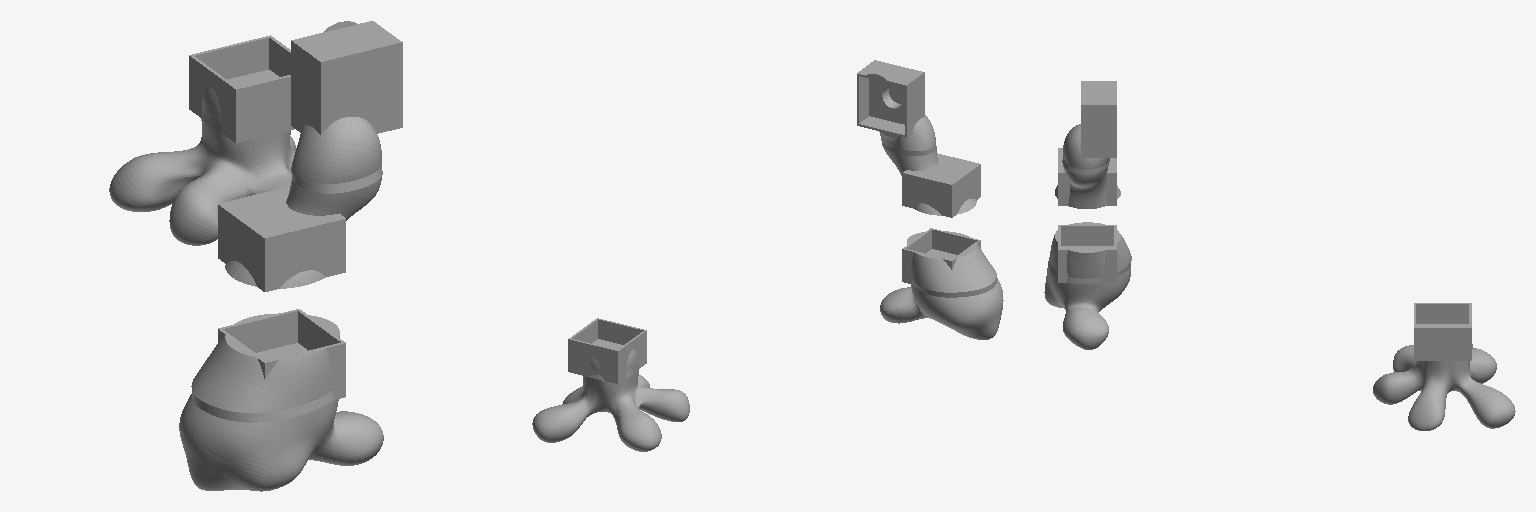
robot.urdf — FrogBot5_top-FrogBot5-y-1_bottom-FrogBot5-y-1:
<?xml version="1.0" ?>
<robot name="FrogBot5_top-FrogBot5-y-1_bottom-FrogBot5-y-1">

<material name="pla_5_percent_infill">
  <color rgba="0.700 0.700 0.700 1.000"/>
</material>

<link name="base_link">
  <inertial>
    <origin xyz="0 0 0" rpy="0 0 0"/>
    <mass value="1.4805118043364613"/>
    <inertia ixx="0.00519778244400068" iyy="0.011185972187213383" izz="0.012581059264896973" ixy="-0.0002102027550041139" iyz="-1.09064860282594e-05" ixz="-0.0008439426245005397"/>
  </inertial>
  <visual>
    <origin xyz="0 0 0" rpy="0 0 0"/>
    <geometry>
      <mesh filename="simple_meshes/base_link.stl" scale="0.001 0.001 0.001"/>
    </geometry>
    <material name="pla_5_percent_infill"/>
  </visual>
  <collision>
    <origin xyz="0 0 0" rpy="0 0 0"/>
    <geometry>
      <mesh filename="simple_meshes/base_link.stl" scale="0.001 0.001 0.001"/>
    </geometry>
  </collision>
</link>

<link name="body_1_0_1">
  <inertial>
    <origin xyz="-0.05492 -0.106321 -0.011198" rpy="0 0 0"/>
    <mass value="0.030173710329231874"/>
    <inertia ixx="2.1151289092102106e-05" iyy="2.3891212404817576e-05" izz="1.1139964591219687e-05" ixy="-8.243479070280742e-08" iyz="-1.2629091710427749e-06" ixz="-7.893532797612751e-07"/>
  </inertial>
  <visual>
    <origin xyz="-0.05492 -0.106321 -0.011198" rpy="0 0 0"/>
    <geometry>
      <mesh filename="simple_meshes/body_1_0_1.stl" scale="0.001 0.001 0.001"/>
    </geometry>
    <material name="pla_5_percent_infill"/>
  </visual>
  <collision>
    <origin xyz="-0.05492 -0.106321 -0.011198" rpy="0 0 0"/>
    <geometry>
      <mesh filename="simple_meshes/body_1_0_1.stl" scale="0.001 0.001 0.001"/>
    </geometry>
  </collision>
</link>

<link name="body_1_1_1">
  <inertial>
    <origin xyz="0.058377 -0.106321 -0.025493" rpy="0 0 0"/>
    <mass value="0.04959591978118273"/>
    <inertia ixx="4.2126143959894755e-05" iyy="6.312488080287146e-05" izz="3.558844236590175e-05" ixy="-1.6763401172245748e-06" iyz="-6.683540816491339e-07" ixz="-2.0590648971645016e-05"/>
  </inertial>
  <visual>
    <origin xyz="0.058377 -0.106321 -0.025493" rpy="0 0 0"/>
    <geometry>
      <mesh filename="simple_meshes/body_1_1_1.stl" scale="0.001 0.001 0.001"/>
    </geometry>
    <material name="pla_5_percent_infill"/>
  </visual>
  <collision>
    <origin xyz="0.058377 -0.106321 -0.025493" rpy="0 0 0"/>
    <geometry>
      <mesh filename="simple_meshes/body_1_1_1.stl" scale="0.001 0.001 0.001"/>
    </geometry>
  </collision>
</link>

<link name="body_1_2_1">
  <inertial>
    <origin xyz="-0.053934 0.106321 -0.032331" rpy="0 0 0"/>
    <mass value="0.04269392099081466"/>
    <inertia ixx="4.093074680828839e-05" iyy="4.614185521955802e-05" izz="1.5859195045614437e-05" ixy="6.028893648359459e-08" iyz="1.772225068526732e-08" ixz="5.9296961033217955e-06"/>
  </inertial>
  <visual>
    <origin xyz="-0.053934 0.106321 -0.032331" rpy="0 0 0"/>
    <geometry>
      <mesh filename="simple_meshes/body_1_2_1.stl" scale="0.001 0.001 0.001"/>
    </geometry>
    <material name="pla_5_percent_infill"/>
  </visual>
  <collision>
    <origin xyz="-0.053934 0.106321 -0.032331" rpy="0 0 0"/>
    <geometry>
      <mesh filename="simple_meshes/body_1_2_1.stl" scale="0.001 0.001 0.001"/>
    </geometry>
  </collision>
</link>

<link name="body_1_3_1">
  <inertial>
    <origin xyz="0.057483 0.106321 -0.032919" rpy="0 0 0"/>
    <mass value="0.04788517718802873"/>
    <inertia ixx="4.447962696015745e-05" iyy="6.078522117296584e-05" izz="2.855595916184759e-05" ixy="-6.817160978697927e-07" iyz="-1.6790953519319051e-06" ixz="-1.826446817986444e-05"/>
  </inertial>
  <visual>
    <origin xyz="0.057483 0.106321 -0.032919" rpy="0 0 0"/>
    <geometry>
      <mesh filename="simple_meshes/body_1_3_1.stl" scale="0.001 0.001 0.001"/>
    </geometry>
    <material name="pla_5_percent_infill"/>
  </visual>
  <collision>
    <origin xyz="0.057483 0.106321 -0.032919" rpy="0 0 0"/>
    <geometry>
      <mesh filename="simple_meshes/body_1_3_1.stl" scale="0.001 0.001 0.001"/>
    </geometry>
  </collision>
</link>

<link name="body_2_0_1">
  <inertial>
    <origin xyz="-0.051784 -0.143449 0.075454" rpy="0 0 0"/>
    <mass value="0.07435618188436759"/>
    <inertia ixx="6.975634907167069e-05" iyy="7.70802745863569e-05" izz="9.259758076558041e-05" ixy="-4.545005589764767e-06" iyz="3.6843505059496774e-06" ixz="-7.682881899502602e-07"/>
  </inertial>
  <visual>
    <origin xyz="-0.051784 -0.143449 0.075454" rpy="0 0 0"/>
    <geometry>
      <mesh filename="simple_meshes/body_2_0_1.stl" scale="0.001 0.001 0.001"/>
    </geometry>
    <material name="pla_5_percent_infill"/>
  </visual>
  <collision>
    <origin xyz="-0.051784 -0.143449 0.075454" rpy="0 0 0"/>
    <geometry>
      <mesh filename="simple_meshes/body_2_0_1.stl" scale="0.001 0.001 0.001"/>
    </geometry>
  </collision>
</link>

<link name="body_2_1_1">
  <inertial>
    <origin xyz="0.108798 -0.147527 0.075454" rpy="0 0 0"/>
    <mass value="0.08193441824569248"/>
    <inertia ixx="4.299167477942031e-05" iyy="6.209126186463307e-05" izz="6.552960935158302e-05" ixy="-1.7933545118557857e-06" iyz="2.5584454424920806e-07" ixz="-6.609097183574858e-07"/>
  </inertial>
  <visual>
    <origin xyz="0.108798 -0.147527 0.075454" rpy="0 0 0"/>
    <geometry>
      <mesh filename="simple_meshes/body_2_1_1.stl" scale="0.001 0.001 0.001"/>
    </geometry>
    <material name="pla_5_percent_infill"/>
  </visual>
  <collision>
    <origin xyz="0.108798 -0.147527 0.075454" rpy="0 0 0"/>
    <geometry>
      <mesh filename="simple_meshes/body_2_1_1.stl" scale="0.001 0.001 0.001"/>
    </geometry>
  </collision>
</link>

<link name="body_2_2_1">
  <inertial>
    <origin xyz="-0.065031 0.147225 0.075454" rpy="0 0 0"/>
    <mass value="0.07330124746486667"/>
    <inertia ixx="6.873313318246643e-05" iyy="6.698655751762234e-05" izz="8.498154268068558e-05" ixy="6.0309533392252385e-06" iyz="-2.034515268293678e-06" ixz="-3.0156798077088072e-06"/>
  </inertial>
  <visual>
    <origin xyz="-0.065031 0.147225 0.075454" rpy="0 0 0"/>
    <geometry>
      <mesh filename="simple_meshes/body_2_2_1.stl" scale="0.001 0.001 0.001"/>
    </geometry>
    <material name="pla_5_percent_infill"/>
  </visual>
  <collision>
    <origin xyz="-0.065031 0.147225 0.075454" rpy="0 0 0"/>
    <geometry>
      <mesh filename="simple_meshes/body_2_2_1.stl" scale="0.001 0.001 0.001"/>
    </geometry>
  </collision>
</link>

<link name="body_2_3_1">
  <inertial>
    <origin xyz="0.101339 0.151086 0.075454" rpy="0 0 0"/>
    <mass value="0.09394065176853235"/>
    <inertia ixx="5.545765945787987e-05" iyy="8.539341208935961e-05" izz="7.992714861295488e-05" ixy="7.163962595421042e-07" iyz="-2.796341816162836e-06" ixz="4.887362561150667e-06"/>
  </inertial>
  <visual>
    <origin xyz="0.101339 0.151086 0.075454" rpy="0 0 0"/>
    <geometry>
      <mesh filename="simple_meshes/body_2_3_1.stl" scale="0.001 0.001 0.001"/>
    </geometry>
    <material name="pla_5_percent_infill"/>
  </visual>
  <collision>
    <origin xyz="0.101339 0.151086 0.075454" rpy="0 0 0"/>
    <geometry>
      <mesh filename="simple_meshes/body_2_3_1.stl" scale="0.001 0.001 0.001"/>
    </geometry>
  </collision>
</link>

<joint name="joint_1_0" type="revolute">
  <origin xyz="0.05492 0.106321 0.011198" rpy="0 0 0"/>
  <parent link="base_link"/>
  <child link="body_1_0_1"/>
  <axis xyz="0.0 0.0 -1.0"/>
  <limit upper="1.2" lower="-1.2" effort="3.8" velocity="5.4"/>
</joint>
<transmission name="joint_1_0_tran">
  <type>transmission_interface/SimpleTransmission</type>
  <joint name="joint_1_0">
    <hardwareInterface>PositionJointInterface</hardwareInterface>
  </joint>
  <actuator name="joint_1_0_actr">
    <hardwareInterface>PositionJointInterface</hardwareInterface>
    <mechanicalReduction>1</mechanicalReduction>
  </actuator>
</transmission>

<joint name="joint_1_1" type="revolute">
  <origin xyz="-0.058377 0.106321 0.025493" rpy="0 0 0"/>
  <parent link="base_link"/>
  <child link="body_1_1_1"/>
  <axis xyz="0.0 0.0 -1.0"/>
  <limit upper="1.2" lower="-1.2" effort="3.8" velocity="5.4"/>
</joint>
<transmission name="joint_1_1_tran">
  <type>transmission_interface/SimpleTransmission</type>
  <joint name="joint_1_1">
    <hardwareInterface>PositionJointInterface</hardwareInterface>
  </joint>
  <actuator name="joint_1_1_actr">
    <hardwareInterface>PositionJointInterface</hardwareInterface>
    <mechanicalReduction>1</mechanicalReduction>
  </actuator>
</transmission>

<joint name="joint_1_2" type="revolute">
  <origin xyz="0.053934 -0.106321 0.032331" rpy="0 0 0"/>
  <parent link="base_link"/>
  <child link="body_1_2_1"/>
  <axis xyz="0.0 0.0 -1.0"/>
  <limit upper="1.2" lower="-1.2" effort="3.8" velocity="5.4"/>
</joint>
<transmission name="joint_1_2_tran">
  <type>transmission_interface/SimpleTransmission</type>
  <joint name="joint_1_2">
    <hardwareInterface>PositionJointInterface</hardwareInterface>
  </joint>
  <actuator name="joint_1_2_actr">
    <hardwareInterface>PositionJointInterface</hardwareInterface>
    <mechanicalReduction>1</mechanicalReduction>
  </actuator>
</transmission>

<joint name="joint_1_3" type="revolute">
  <origin xyz="-0.057483 -0.106321 0.032919" rpy="0 0 0"/>
  <parent link="base_link"/>
  <child link="body_1_3_1"/>
  <axis xyz="0.0 0.0 -1.0"/>
  <limit upper="1.2" lower="-1.2" effort="3.8" velocity="5.4"/>
</joint>
<transmission name="joint_1_3_tran">
  <type>transmission_interface/SimpleTransmission</type>
  <joint name="joint_1_3">
    <hardwareInterface>PositionJointInterface</hardwareInterface>
  </joint>
  <actuator name="joint_1_3_actr">
    <hardwareInterface>PositionJointInterface</hardwareInterface>
    <mechanicalReduction>1</mechanicalReduction>
  </actuator>
</transmission>

<joint name="joint_2_0" type="revolute">
  <origin xyz="-0.003136 0.037128 -0.086652" rpy="0 0 0"/>
  <parent link="body_1_0_1"/>
  <child link="body_2_0_1"/>
  <axis xyz="0.0 1.0 0.0"/>
  <limit upper="1.2" lower="-1.2" effort="3.8" velocity="5.4"/>
</joint>
<transmission name="joint_2_0_tran">
  <type>transmission_interface/SimpleTransmission</type>
  <joint name="joint_2_0">
    <hardwareInterface>PositionJointInterface</hardwareInterface>
  </joint>
  <actuator name="joint_2_0_actr">
    <hardwareInterface>PositionJointInterface</hardwareInterface>
    <mechanicalReduction>1</mechanicalReduction>
  </actuator>
</transmission>

<joint name="joint_2_1" type="revolute">
  <origin xyz="-0.050421 0.041206 -0.100947" rpy="0 0 0"/>
  <parent link="body_1_1_1"/>
  <child link="body_2_1_1"/>
  <axis xyz="0.0 1.0 0.0"/>
  <limit upper="1.2" lower="-1.2" effort="3.8" velocity="5.4"/>
</joint>
<transmission name="joint_2_1_tran">
  <type>transmission_interface/SimpleTransmission</type>
  <joint name="joint_2_1">
    <hardwareInterface>PositionJointInterface</hardwareInterface>
  </joint>
  <actuator name="joint_2_1_actr">
    <hardwareInterface>PositionJointInterface</hardwareInterface>
    <mechanicalReduction>1</mechanicalReduction>
  </actuator>
</transmission>

<joint name="joint_2_2" type="revolute">
  <origin xyz="0.011097 -0.040904 -0.107785" rpy="0 0 0"/>
  <parent link="body_1_2_1"/>
  <child link="body_2_2_1"/>
  <axis xyz="0.0 1.0 0.0"/>
  <limit upper="1.2" lower="-1.2" effort="3.8" velocity="5.4"/>
</joint>
<transmission name="joint_2_2_tran">
  <type>transmission_interface/SimpleTransmission</type>
  <joint name="joint_2_2">
    <hardwareInterface>PositionJointInterface</hardwareInterface>
  </joint>
  <actuator name="joint_2_2_actr">
    <hardwareInterface>PositionJointInterface</hardwareInterface>
    <mechanicalReduction>1</mechanicalReduction>
  </actuator>
</transmission>

<joint name="joint_2_3" type="revolute">
  <origin xyz="-0.043856 -0.044765 -0.108373" rpy="0 0 0"/>
  <parent link="body_1_3_1"/>
  <child link="body_2_3_1"/>
  <axis xyz="0.0 1.0 0.0"/>
  <limit upper="1.2" lower="-1.2" effort="3.8" velocity="5.4"/>
</joint>
<transmission name="joint_2_3_tran">
  <type>transmission_interface/SimpleTransmission</type>
  <joint name="joint_2_3">
    <hardwareInterface>PositionJointInterface</hardwareInterface>
  </joint>
  <actuator name="joint_2_3_actr">
    <hardwareInterface>PositionJointInterface</hardwareInterface>
    <mechanicalReduction>1</mechanicalReduction>
  </actuator>
</transmission>

</robot>

--- What the picture shows (computed from the rendered views, not written in the file) ---
3 views of the same robot in one strip: view 1: azimuth 30°, elevation 25°; view 2: azimuth 150°, elevation 25°; view 3: azimuth 270°, elevation 25° (orthographic).
Model FrogBot5_top-FrogBot5-y-1_bottom-FrogBot5-y-1 with 9 links and 8 joints (8 revolute), rooted at base_link, posed all joints at 0.
Visible links, largest first — view 1: body_1_3_1, body_2_3_1, body_2_0_1; view 2: body_2_0_1, body_1_3_1, body_2_3_1; view 3: body_2_0_1, body_2_3_1, body_1_3_1.
Boxes of the visible links, <box> form: body_1_3_1: <box>218,21,402,291</box>; body_2_3_1: <box>179,309,383,491</box>; body_2_0_1: <box>109,35,295,245</box>; body_2_0_1: <box>532,318,689,451</box>; body_1_3_1: <box>857,60,980,217</box>; body_2_3_1: <box>880,228,1003,339</box>; body_2_0_1: <box>1373,303,1515,430</box>; body_2_3_1: <box>1044,222,1131,349</box>; body_1_3_1: <box>1055,81,1120,208</box>.
Bounding box of the posed robot: 0.2559 × 0.3906 × 0.2436 m (x, y, z).
Meshes: 9 distinct files referenced, 3 mesh visuals loaded (3 binary STL); not drawn: 6 (reference not matched to a file when rendering).